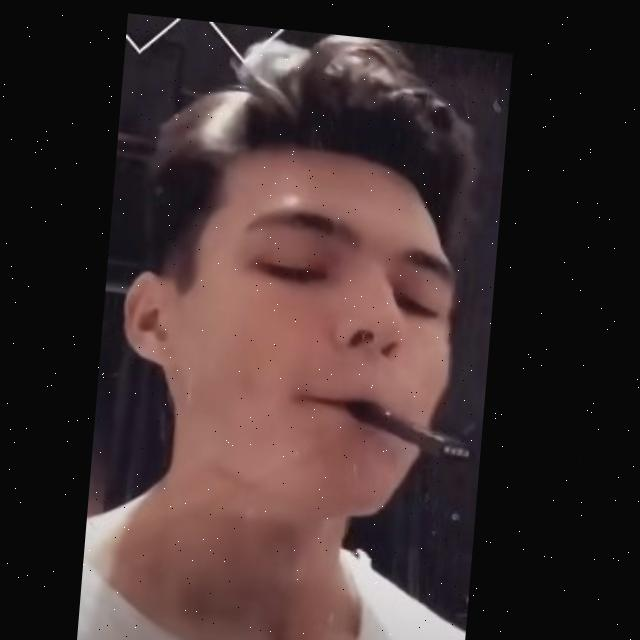vape: (346, 390, 484, 457)
